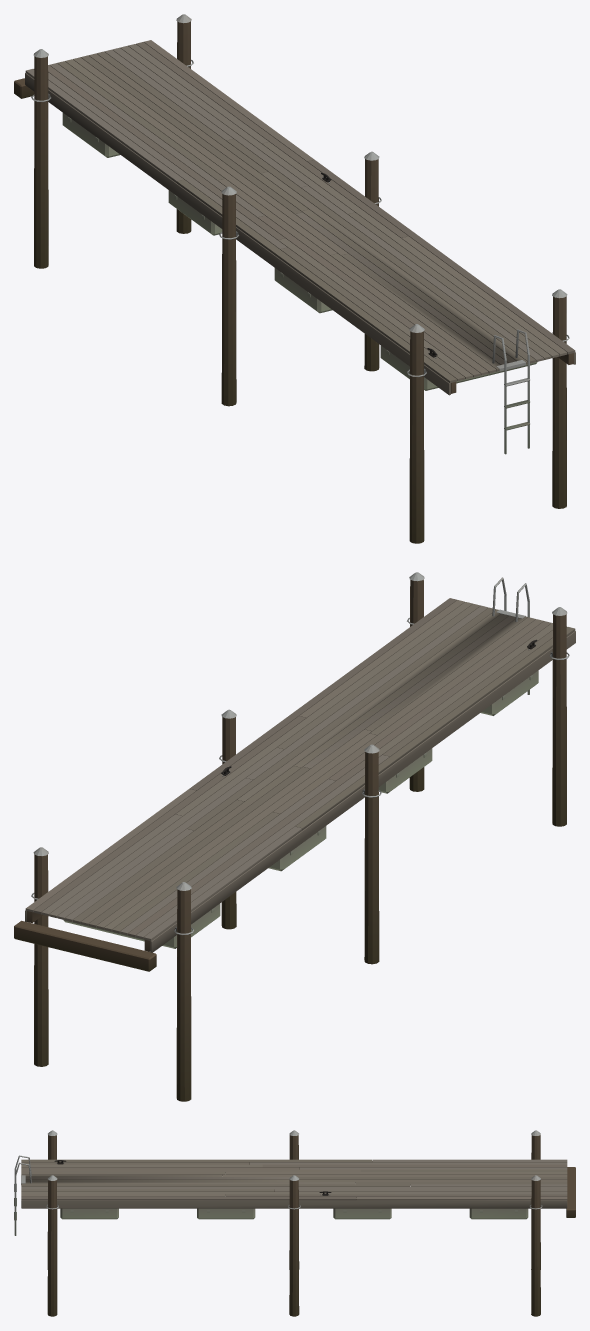
Rendered from boat_dock.glb.
3 views of the same model, one above another, from view 1: azimuth 30°, elevation 25°; view 2: azimuth 150°, elevation 25°; view 3: azimuth 270°, elevation 25° (orthographic). The views are drawn at different scales.
Visible parts, largest first — view 1: boat_dock_deck_LOD0, boat_dock_posts_LOD0, boat_dock_floats_LOD0, boat_dock_ladder_LOD0; view 2: boat_dock_deck_LOD0, boat_dock_posts_LOD0, boat_dock_floats_LOD0; view 3: boat_dock_deck_LOD0, boat_dock_posts_LOD0, boat_dock_floats_LOD0, boat_dock_ladder_LOD0.
Boxes of the visible parts, x1,y1,x2,y2 form: boat_dock_deck_LOD0: [14, 40, 575, 395]; boat_dock_posts_LOD0: [31, 14, 569, 543]; boat_dock_floats_LOD0: [62, 113, 537, 390]; boat_dock_ladder_LOD0: [492, 329, 529, 454]; boat_dock_deck_LOD0: [14, 598, 575, 971]; boat_dock_posts_LOD0: [31, 572, 569, 1101]; boat_dock_floats_LOD0: [63, 670, 538, 948]; boat_dock_deck_LOD0: [21, 1159, 575, 1217]; boat_dock_posts_LOD0: [46, 1130, 542, 1316]; boat_dock_floats_LOD0: [60, 1173, 528, 1219]; boat_dock_ladder_LOD0: [14, 1155, 31, 1235].
Size of what is drawn, in the model's own units: 3.06 by 3.93 by 14.41.
